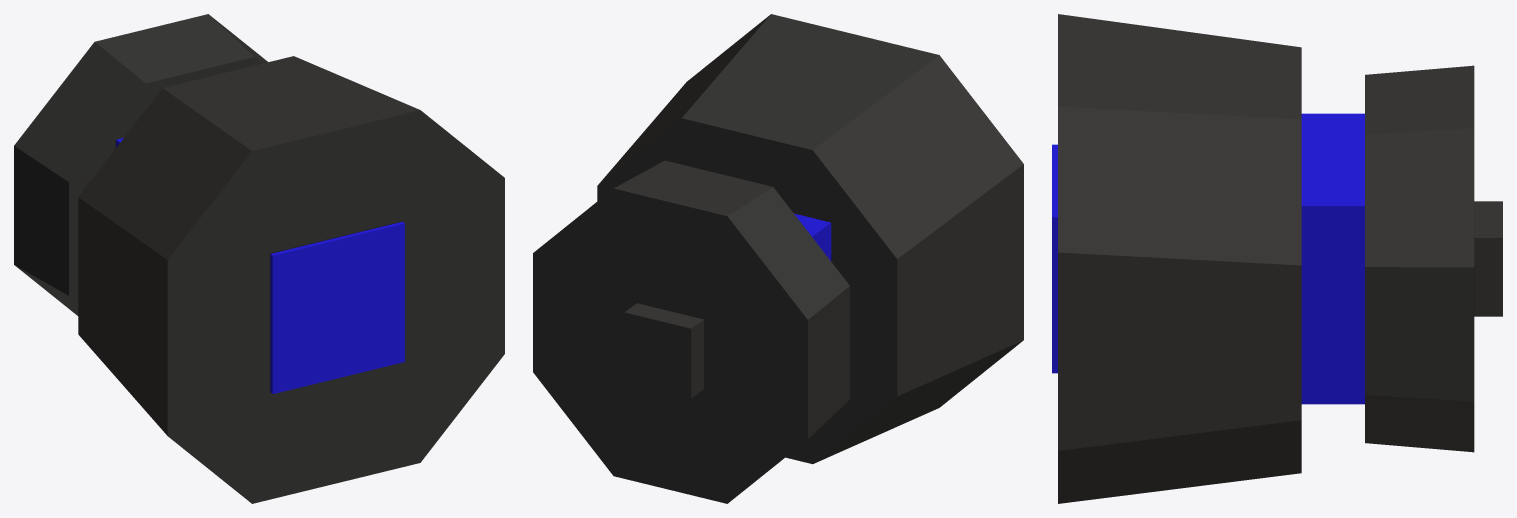
The model's file is magnet-electrical.fbx.
The picture shows the model from 3 angles, left to right: view 1: azimuth 30°, elevation 25°; view 2: azimuth 150°, elevation 25°; view 3: azimuth 270°, elevation 25°; orthographic projection. The views are drawn at different scales.
Parts seen in each view (by area): view 1: electrical-magnet; view 2: electrical-magnet; view 3: electrical-magnet.
Part boxes in pixels (x1=…): electrical-magnet: x1=14, y1=14, x2=504, y2=503; electrical-magnet: x1=533, y1=14, x2=1023, y2=503; electrical-magnet: x1=1052, y1=14, x2=1502, y2=503.
Bounding box in the file's own units: 2 × 2 × 2.06.
